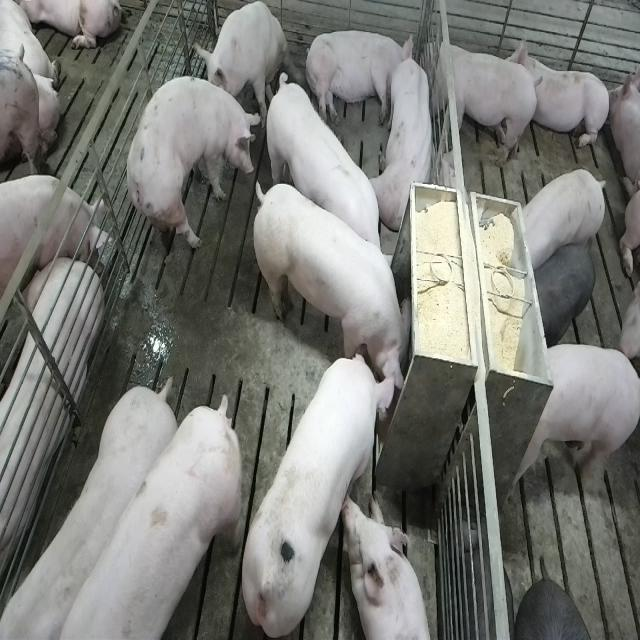Feeding: (237, 349, 401, 637), (256, 176, 419, 403)
Lateral_lying: (0, 254, 101, 589), (303, 28, 415, 127)
Sitting: (194, 2, 290, 130)
Standing: (3, 381, 184, 640), (96, 386, 240, 638), (262, 71, 393, 288), (120, 76, 255, 248), (510, 342, 640, 501), (422, 31, 540, 168), (0, 175, 108, 308), (513, 168, 607, 273), (529, 238, 596, 346)
Sternal_lying: (346, 494, 434, 640), (512, 34, 612, 155), (374, 49, 437, 232)
